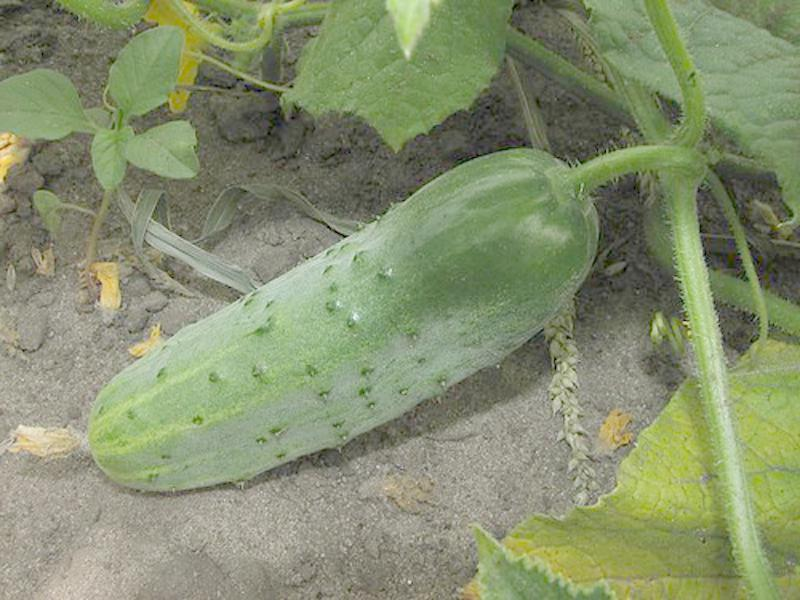Cucumber: (7, 149, 597, 494)
